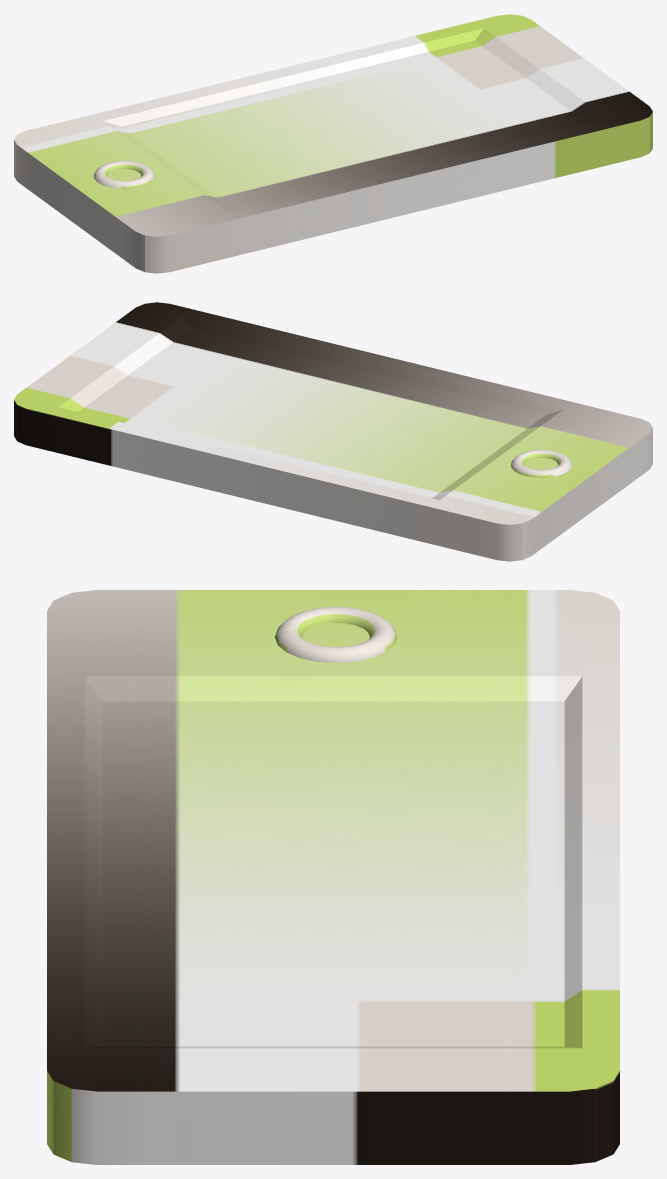
Rendered from CellphoneBurned.fbx.
3 renders of one model, top to bottom at view 1: azimuth 30°, elevation 25°; view 2: azimuth 150°, elevation 25°; view 3: azimuth 270°, elevation 25°, orthographic. The views are drawn at different scales.
Parts seen in each view (by area): view 1: pCube3; view 2: pCube3; view 3: pCube3.
Part boxes in pixels (x1=…): pCube3: x1=14, y1=14, x2=652, y2=273; pCube3: x1=14, y1=302, x2=652, y2=561; pCube3: x1=47, y1=590, x2=619, y2=1164.
Size of the model in its own units: 16.42 by 1.26 by 7.93.
Materials: 1 (1 with a texture image).
